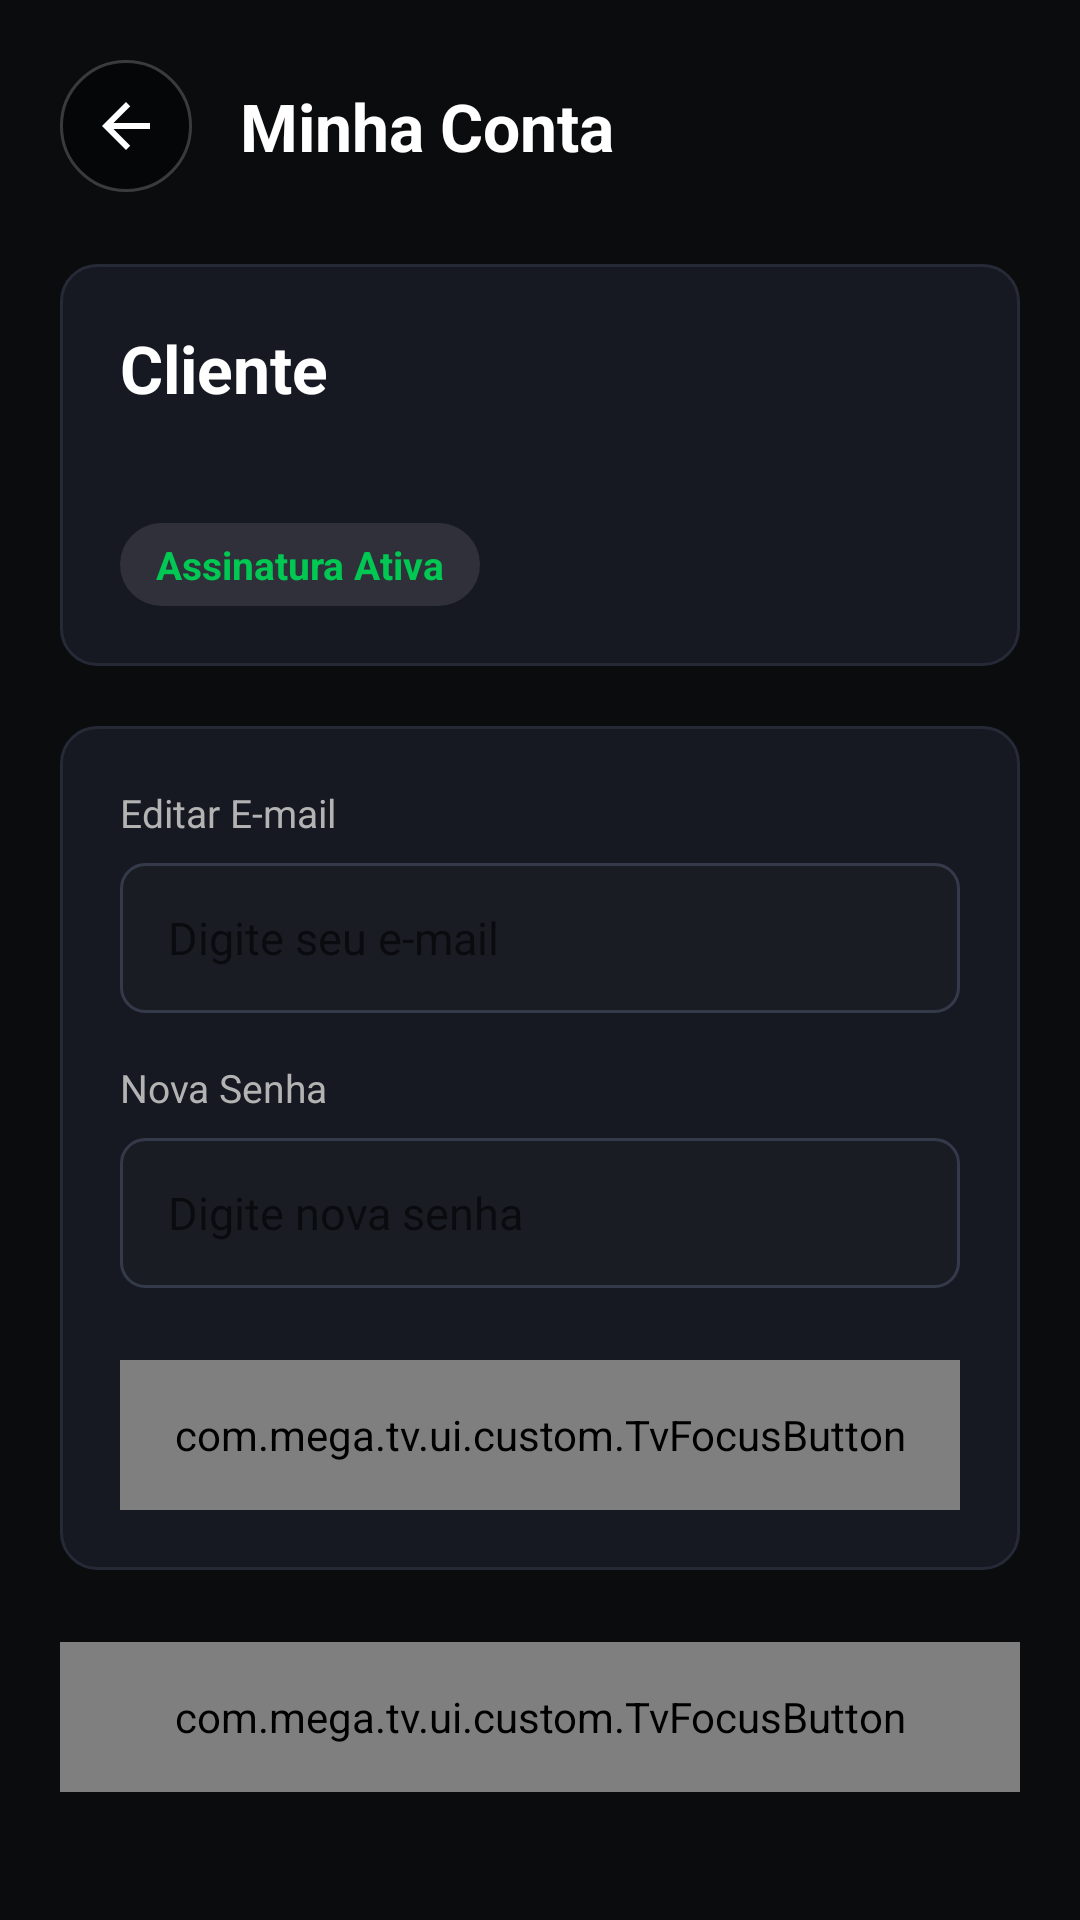

Screen size 1080px x 1920px. Icon name, then its center in pixels as [x,y]:
Voltar: [126,126]
